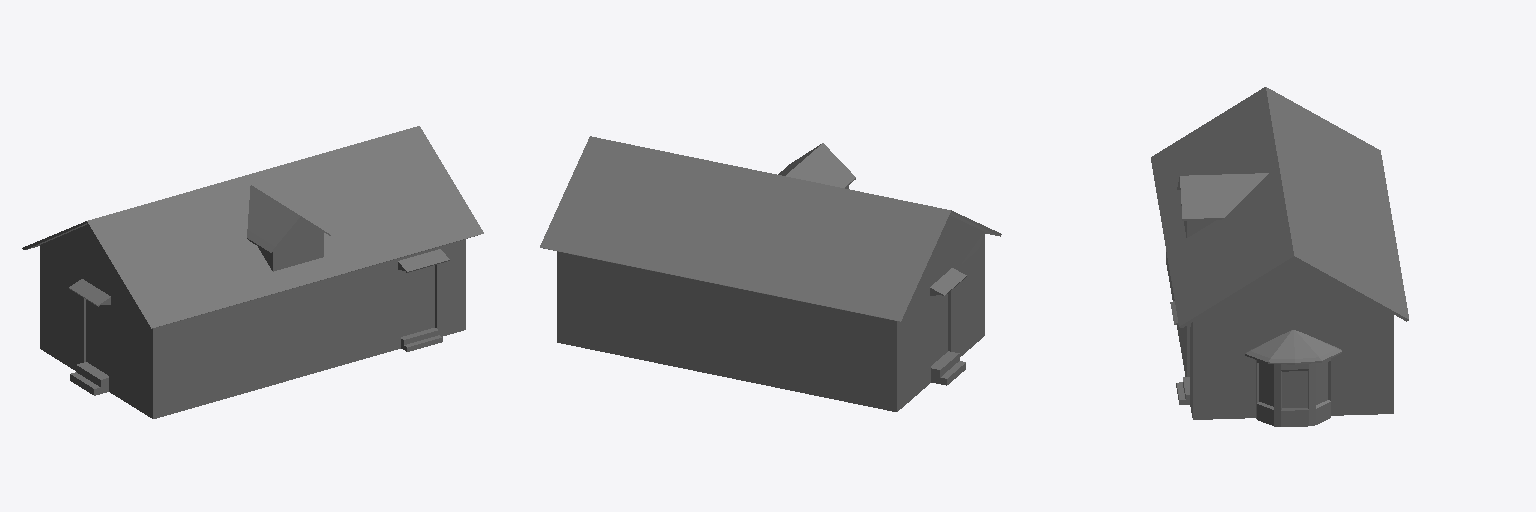
Rendered from cottage_obj.obj.
The picture shows the model from 3 angles: view 1: azimuth 30°, elevation 25°; view 2: azimuth 150°, elevation 25°; view 3: azimuth 270°, elevation 25°; orthographic projection.
Parts seen in each view (by area): view 1: Cube_Cube_002; view 2: Cube_Cube_002; view 3: Cube_Cube_002.
Boxes of the visible parts, <box> form: Cube_Cube_002: <box>22,126,483,418</box>; Cube_Cube_002: <box>540,136,1001,411</box>; Cube_Cube_002: <box>1151,87,1408,426</box>.
Size of the model in its own units: 33.93 by 14.74 by 20.73.